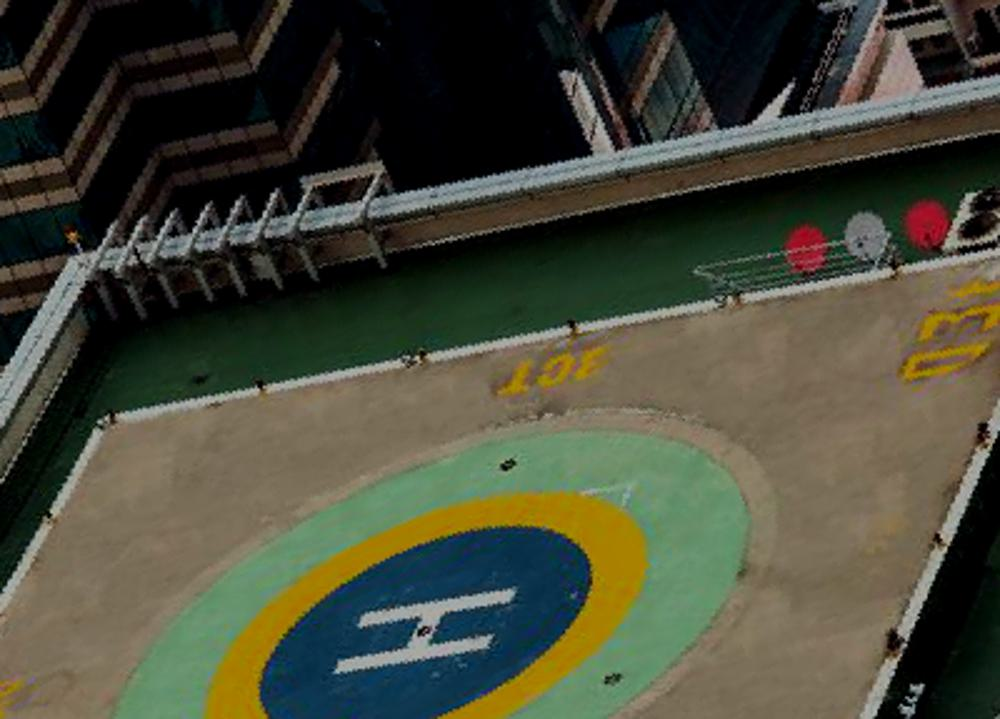Apron: (185, 463, 683, 719)
